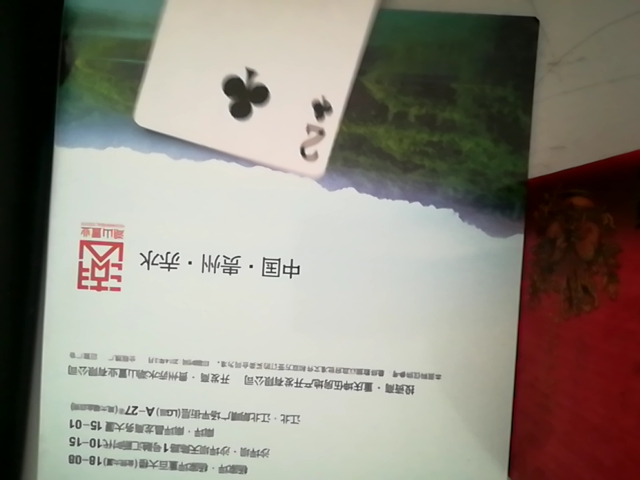mh 2: (121, 0, 406, 180)
